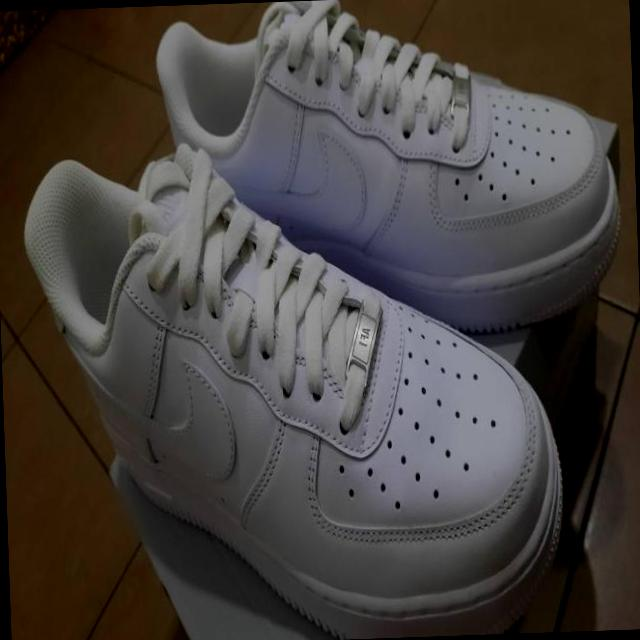nike_original_airforce: (20, 141, 562, 640), (142, 0, 636, 379)
